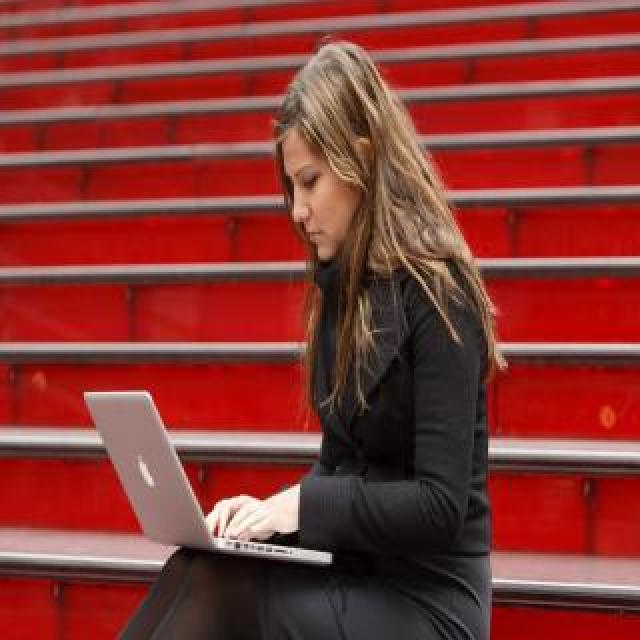laptop_computer: (75, 378, 350, 582)
